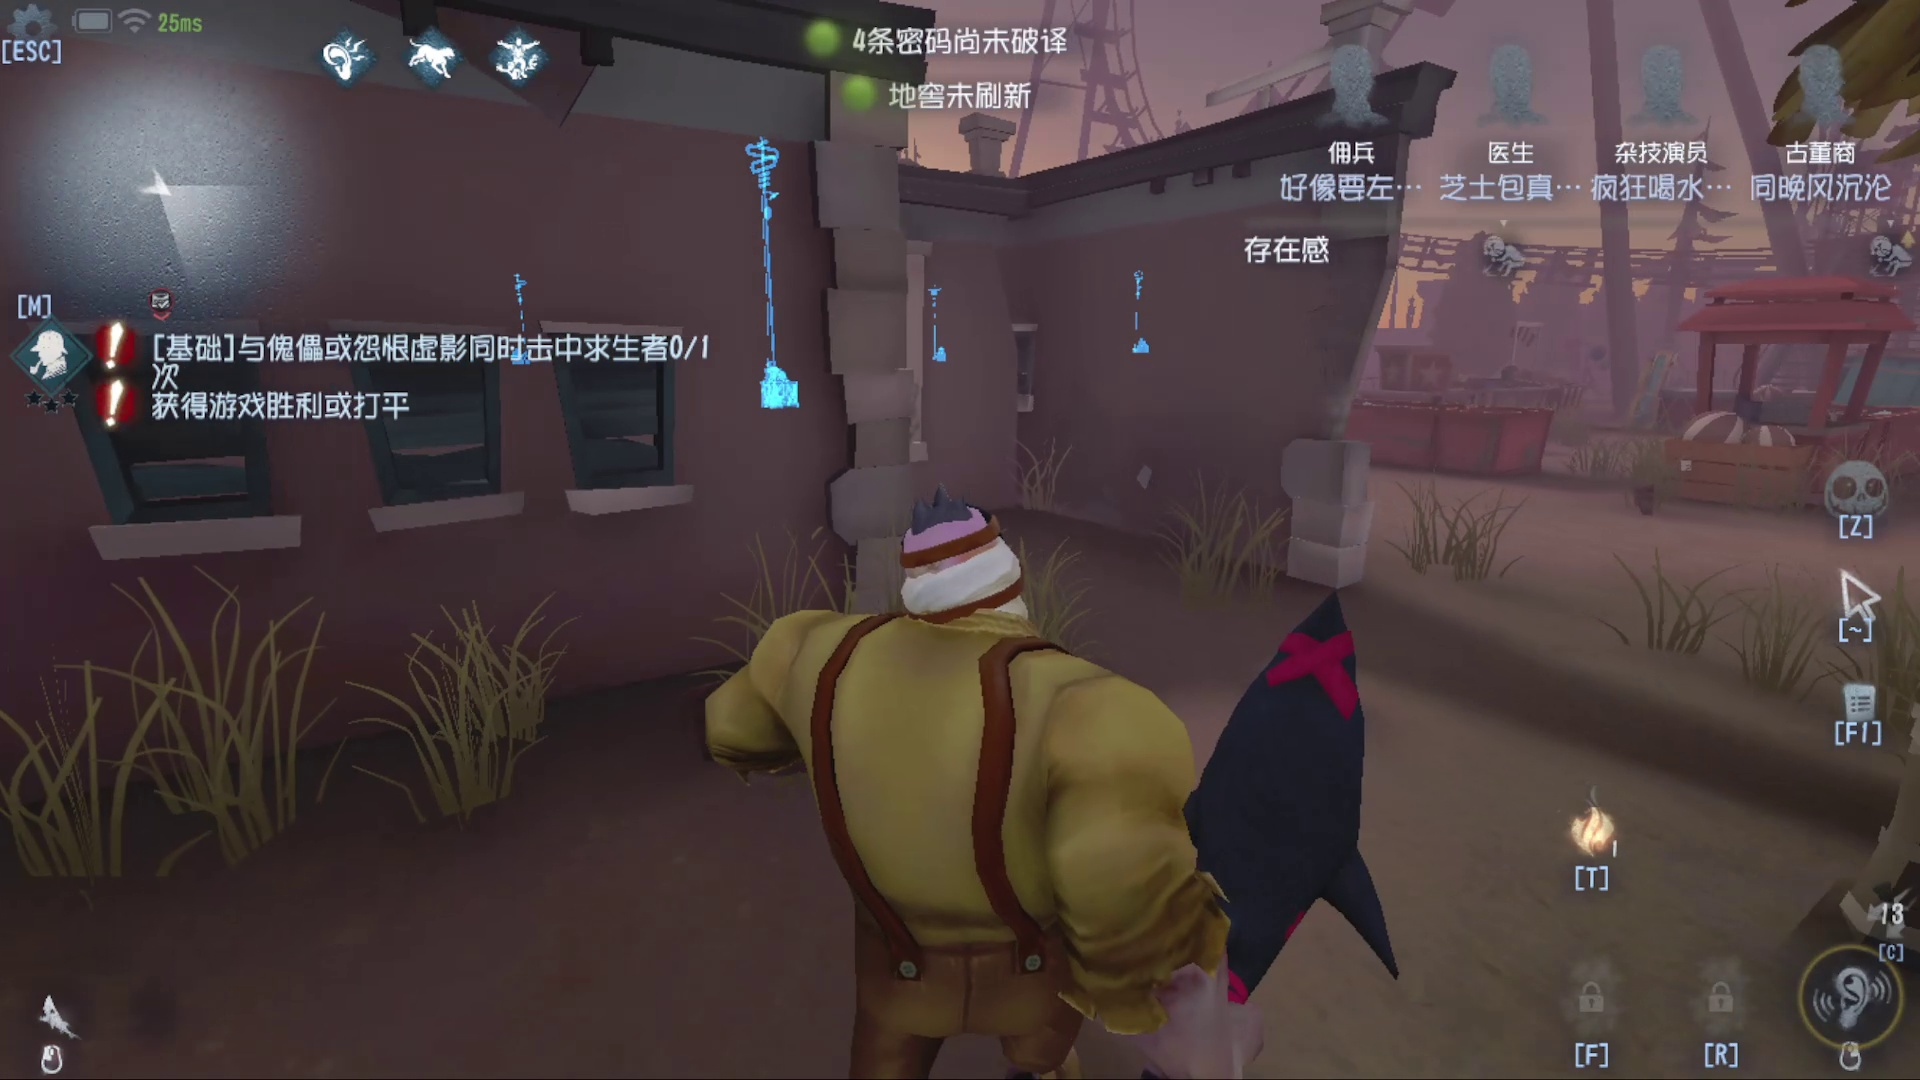密码机: (731, 111, 822, 425), (1118, 257, 1163, 371), (500, 264, 547, 371), (922, 266, 957, 375)
木板: (1800, 347, 1920, 430), (1623, 328, 1673, 444)
